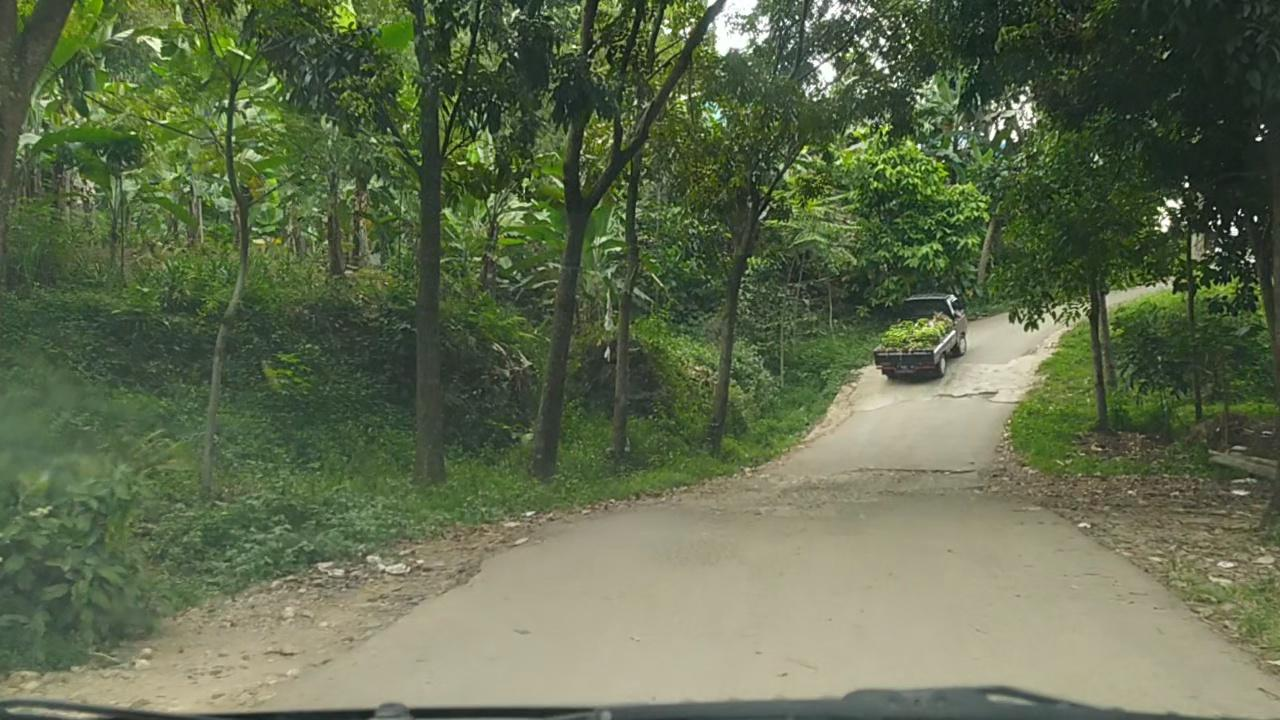pothole: (778, 467, 978, 507), (933, 391, 998, 400)
